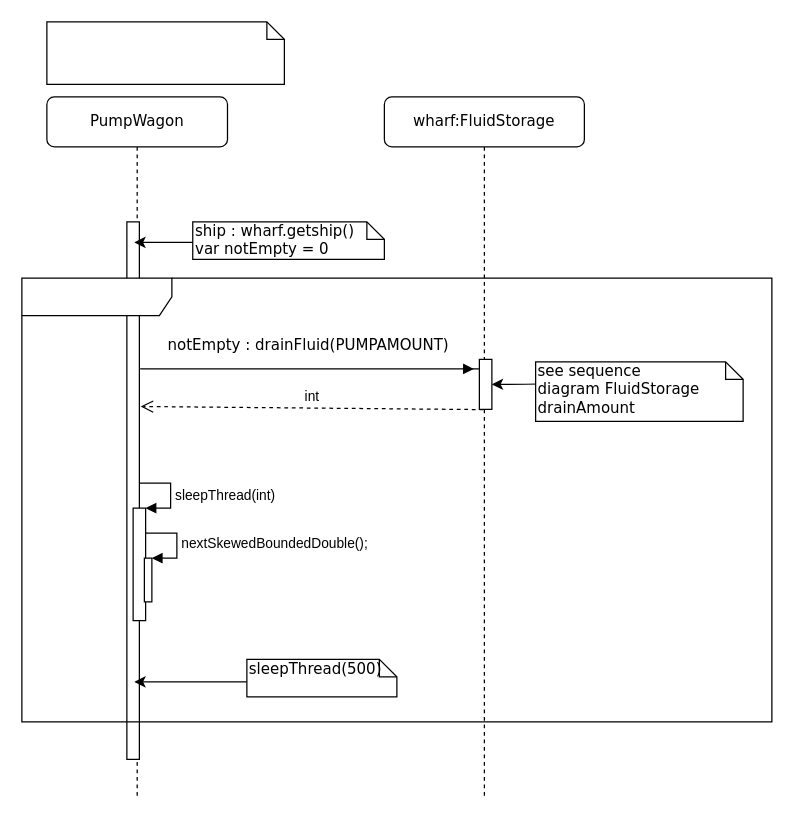
Image size: 794x819. Some labels were removed from this diagram. Each missing label, with the centre of its shape:
Run method of PumpWagon wharf = instanceVariable exit = atomicBoolean: point (165, 52)
while : !exit: point (396, 499)
